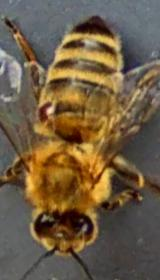varroa_mite: (26, 92, 70, 131)
